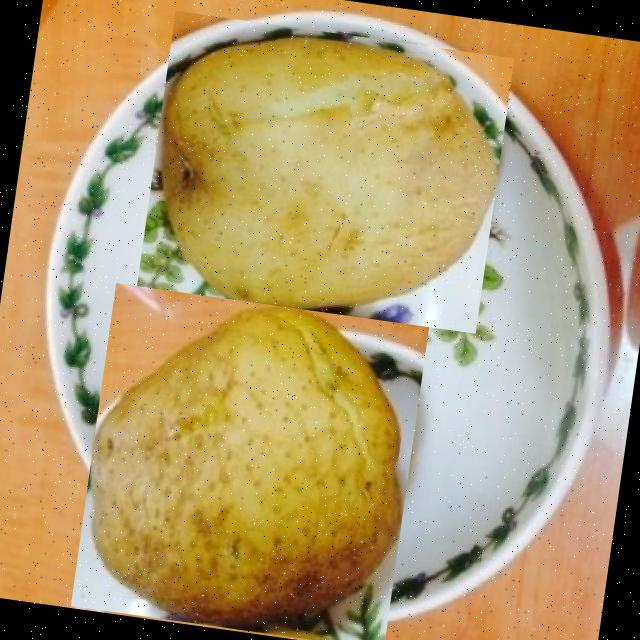Potato: (70, 283, 428, 640), (136, 11, 513, 333)
